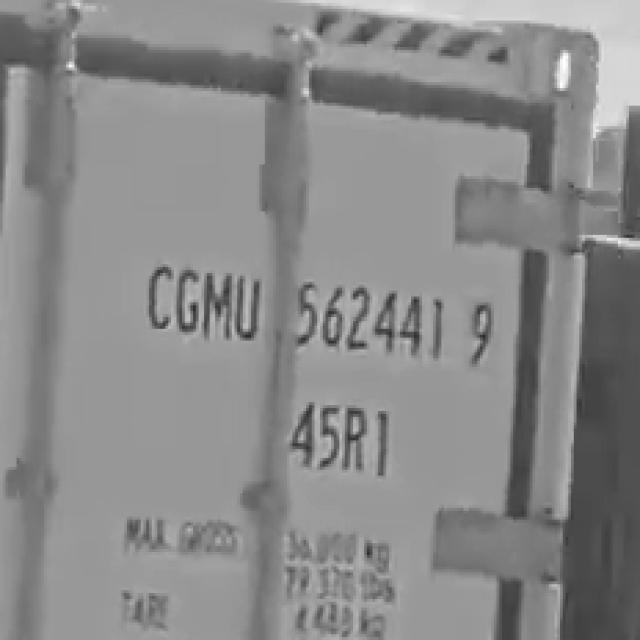dv: (459, 294, 510, 374)
owner: (127, 250, 263, 352)
serial: (287, 268, 452, 366)
size: (288, 381, 402, 488)
